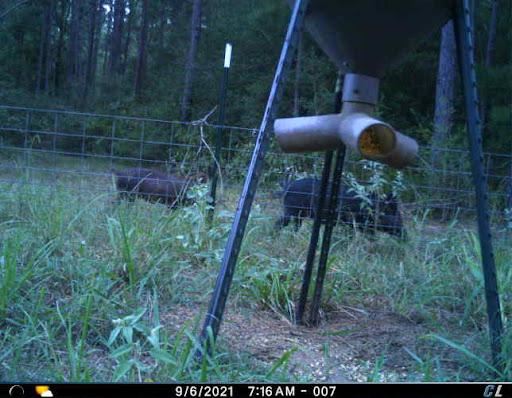Hog: (276, 169, 413, 257), (109, 161, 216, 220)
